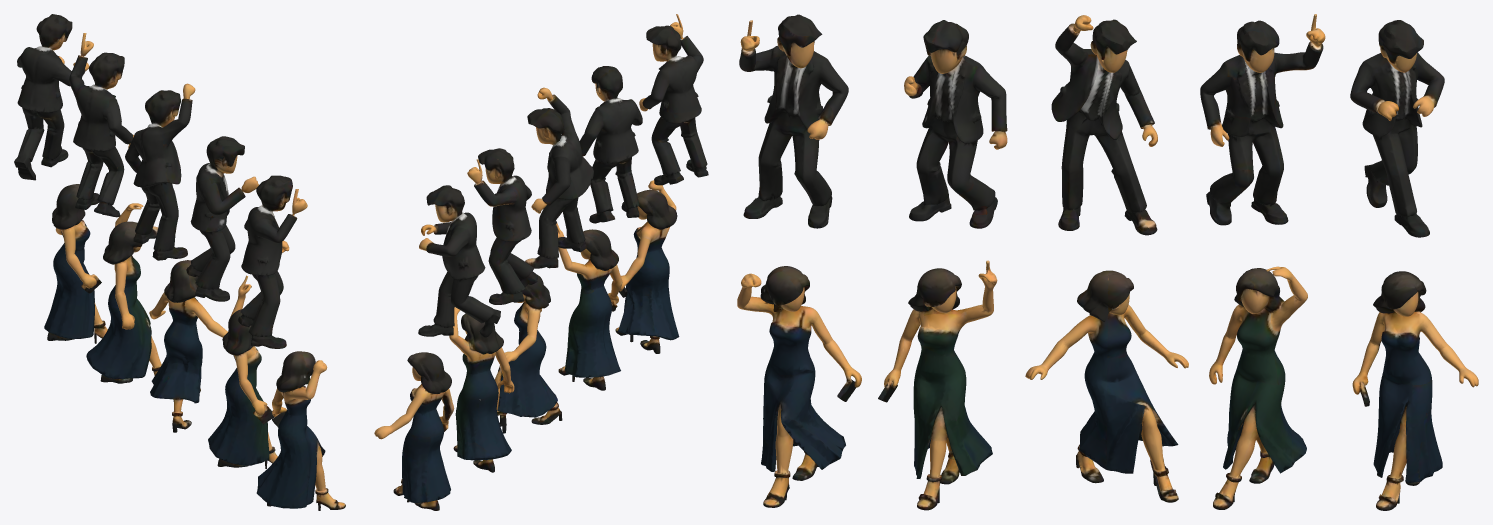
Rendered from invitados.glb.
3 views of the same model, side by side, from view 1: azimuth 30°, elevation 25°; view 2: azimuth 150°, elevation 25°; view 3: azimuth 270°, elevation 25° (orthographic). The views are drawn at different scales.
Parts seen in each view (by area): view 1: tripo_node_a6f53e99-6828-4ea7-bee1-45098a92c099; view 2: tripo_node_a6f53e99-6828-4ea7-bee1-45098a92c099; view 3: tripo_node_a6f53e99-6828-4ea7-bee1-45098a92c099.
Boxes of the visible parts, x1=… form: tripo_node_a6f53e99-6828-4ea7-bee1-45098a92c099: x1=14, y1=14, x2=345, y2=510; tripo_node_a6f53e99-6828-4ea7-bee1-45098a92c099: x1=374, y1=14, x2=708, y2=510; tripo_node_a6f53e99-6828-4ea7-bee1-45098a92c099: x1=737, y1=14, x2=1478, y2=510.
Bounding box in the file's own units: 0.2285 × 0.7011 × 1.
1 material, 1 textured.
